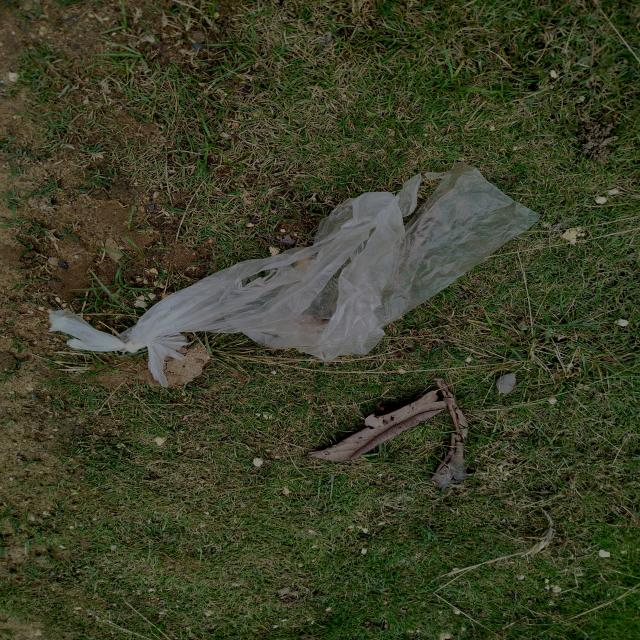residual: (38, 151, 570, 389)
